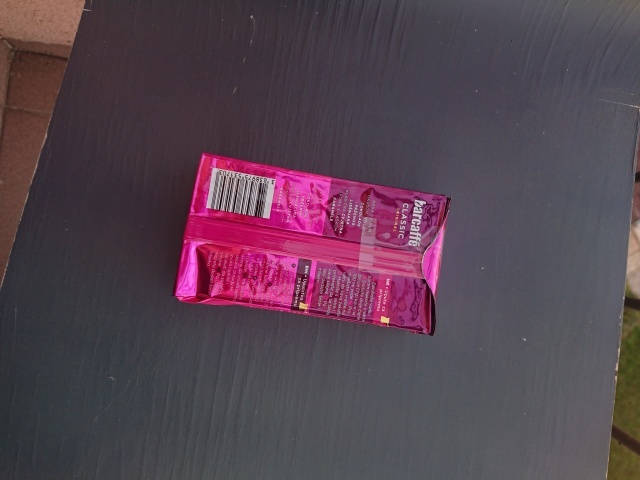Barcaffe Classic Original 225g: (170, 148, 455, 341)
